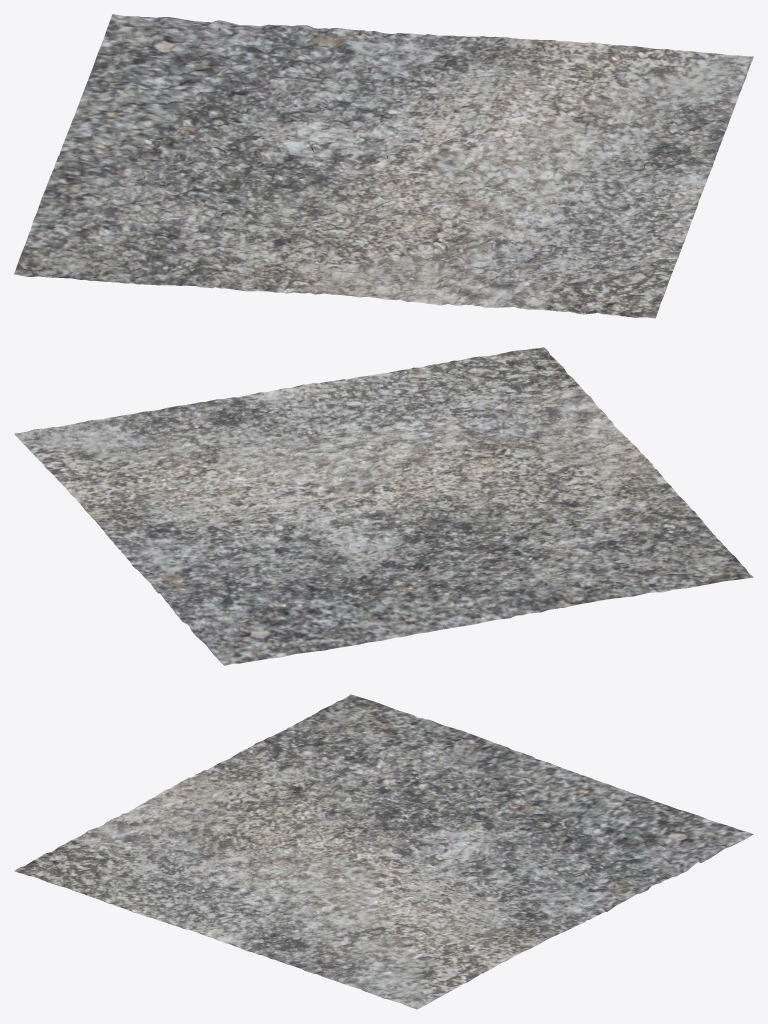
Rendered from tile_0_1.obj.
3 views of the same model, one above another, from view 1: azimuth 30°, elevation 25°; view 2: azimuth 150°, elevation 25°; view 3: azimuth 270°, elevation 25° (orthographic). The views are drawn at different scales.
Visible parts, largest first — view 1: texture_0; view 2: texture_0; view 3: texture_0.
Boxes of the visible parts, x1,y1,x2,y2 form: texture_0: (14,14,753,318); texture_0: (14,347,753,665); texture_0: (14,694,753,1009).
Size of the model in its own units: 0.508 by 0.00576 by 0.5063.
Materials: 1 (1 with a texture image).
